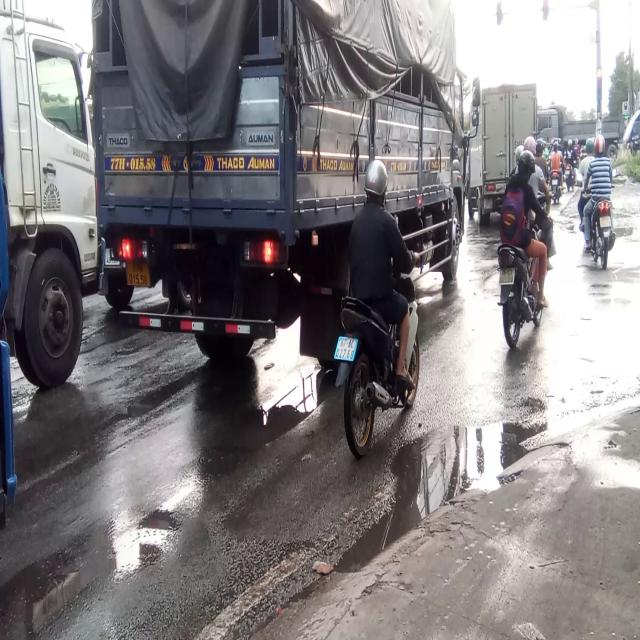bien_trang: (332, 334, 359, 366)
bien_vang: (125, 259, 151, 288)
